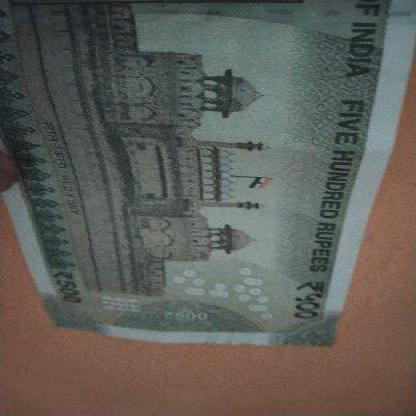New500Back: (3, 0, 414, 343)
